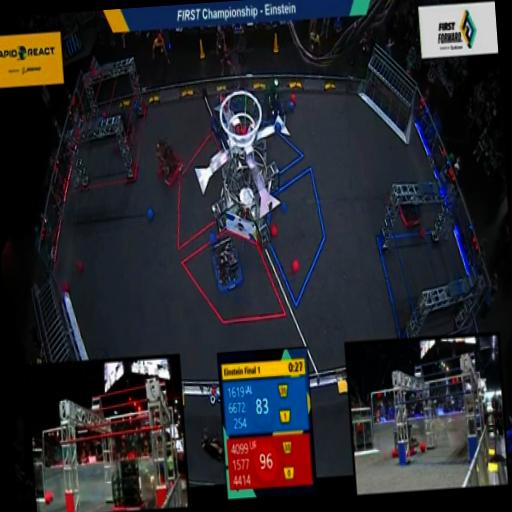robot: (205, 224, 246, 302), (152, 127, 190, 193), (255, 70, 289, 130), (394, 183, 426, 230)
